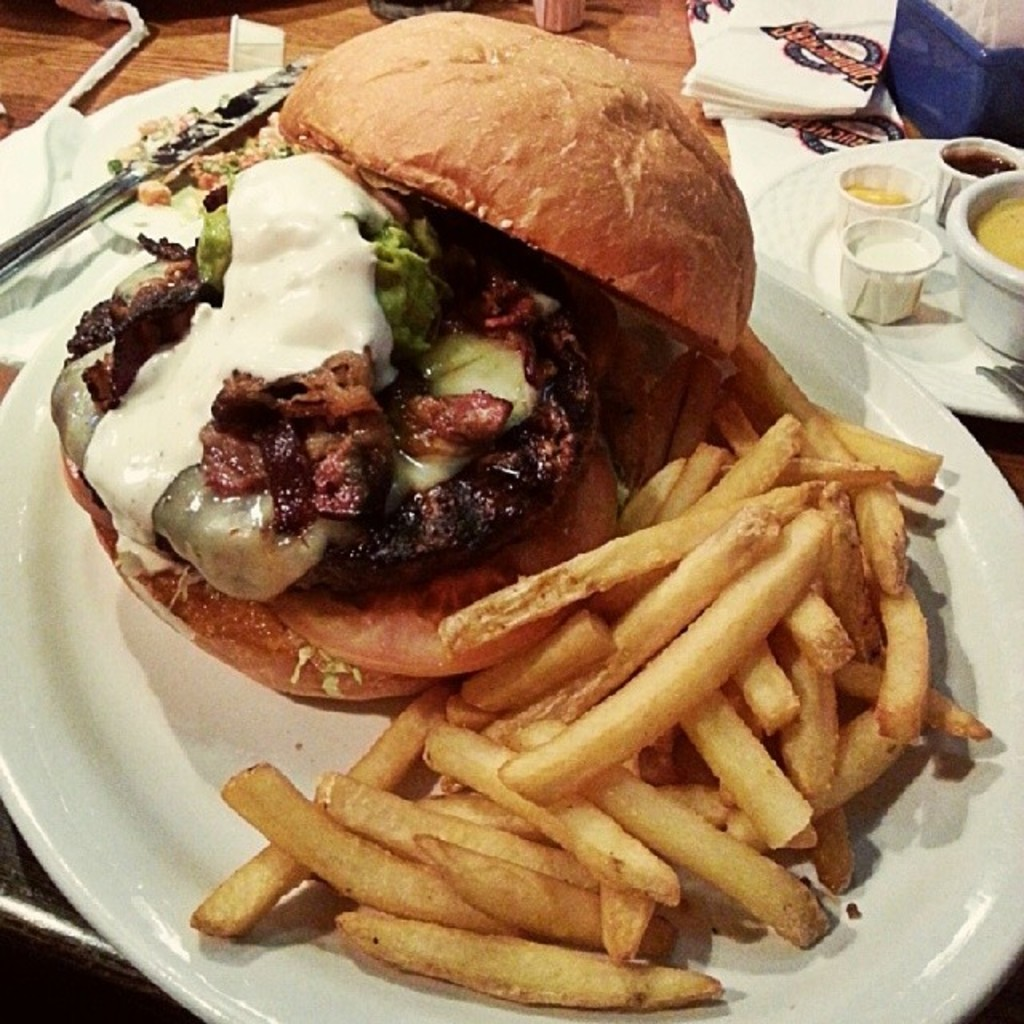French fries: (256, 395, 977, 1003)
